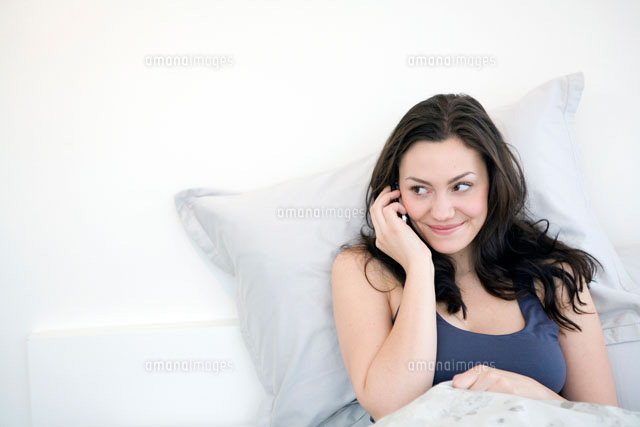phone: (368, 185, 417, 254)
talk: (371, 175, 487, 270)
